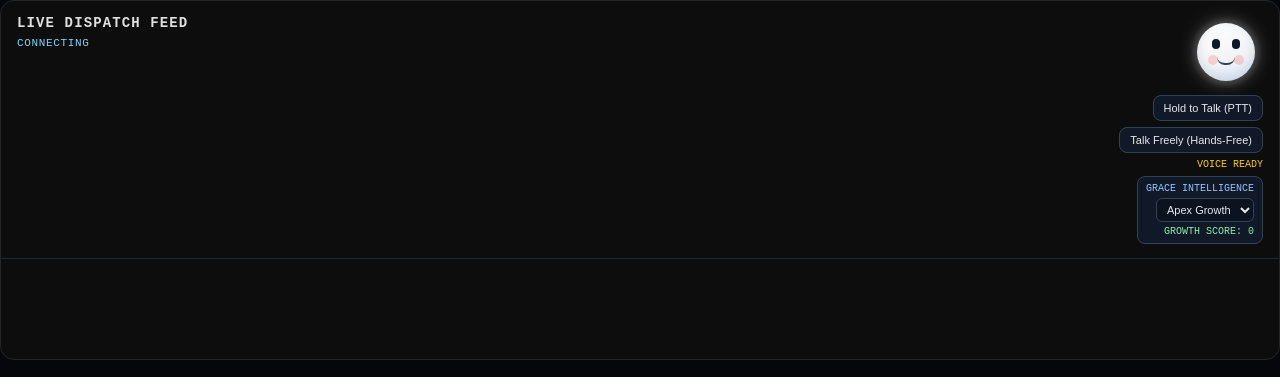
Test: DispatchFeed › keeps retrying hands-free mode only for transient recognition errors
This screenshot has width=1280, height=377.
Click the button "Talk Freely (Hands-Free)".
click(1191, 140)  # box [1119, 127, 1263, 153]
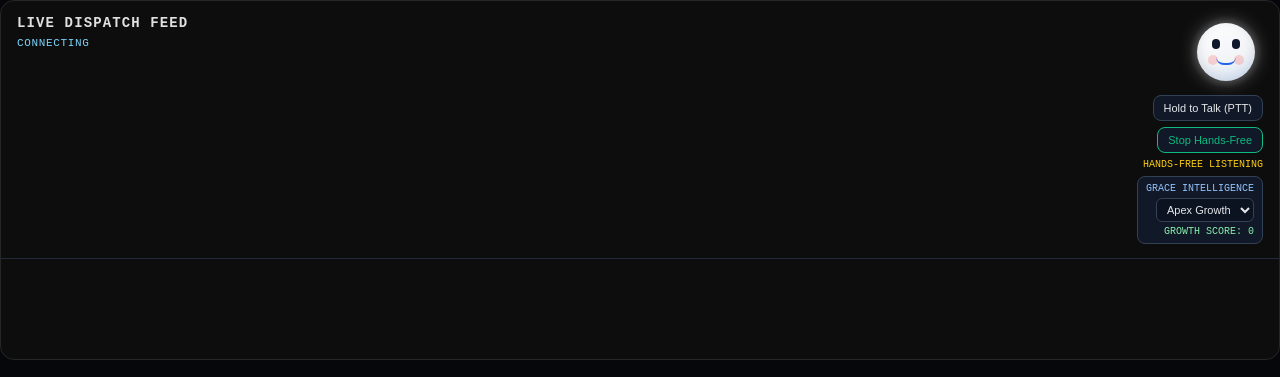
Expected: the button "Stop Hands-Free" is shown, [1157, 127, 1263, 153]
